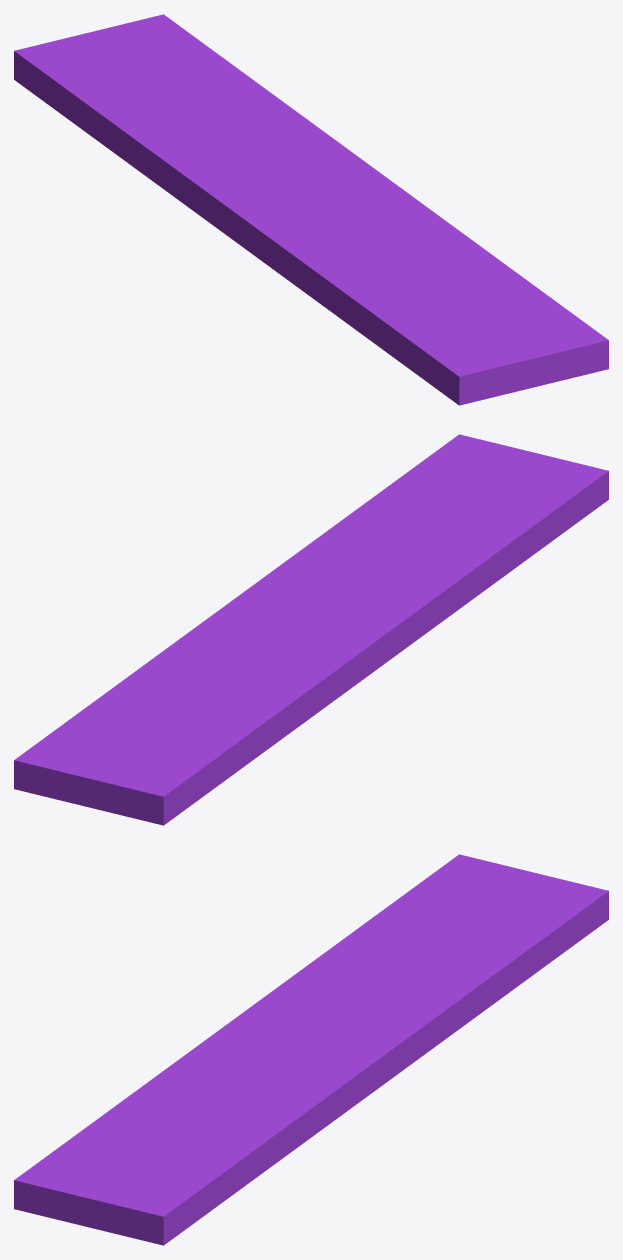
File: StairsStep_91_chunks.fbx
3 views of the same model, one above another, from view 1: azimuth 30°, elevation 25°; view 2: azimuth 150°, elevation 25°; view 3: azimuth 330°, elevation 25° (orthographic).
Visible parts, largest first — view 1: StairsStep_91_2, StairsStep_91_1, StairsStep_91_3; view 2: StairsStep_91_2, StairsStep_91_1, StairsStep_91_3; view 3: StairsStep_91_2, StairsStep_91_1, StairsStep_91_3.
Part boxes in pixels (x1,y1,x2,y2): StairsStep_91_2: [283, 183, 608, 405]; StairsStep_91_1: [14, 14, 393, 194]; StairsStep_91_3: [104, 117, 313, 276]; StairsStep_91_2: [244, 434, 608, 628]; StairsStep_91_1: [14, 592, 307, 825]; StairsStep_91_3: [254, 597, 435, 750]; StairsStep_91_2: [14, 1036, 378, 1245]; StairsStep_91_1: [315, 854, 608, 1088]; StairsStep_91_3: [188, 920, 368, 1053].
Size of the model in its own units: 157 by 28.98 by 810.
